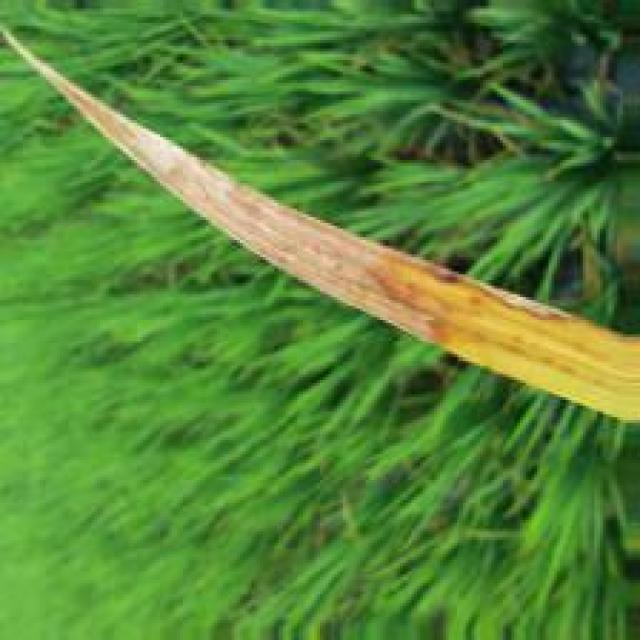Rice False Smut: (80, 99, 448, 349), (412, 260, 568, 327)
